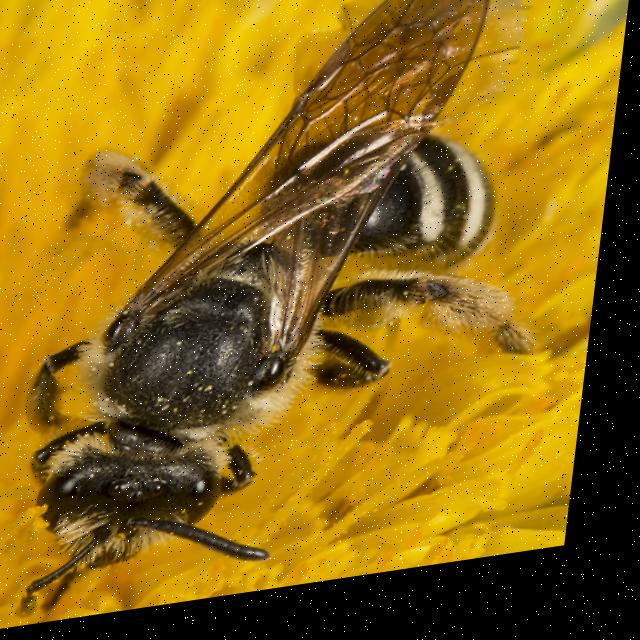Lasioglossum: (11, 0, 581, 625)
